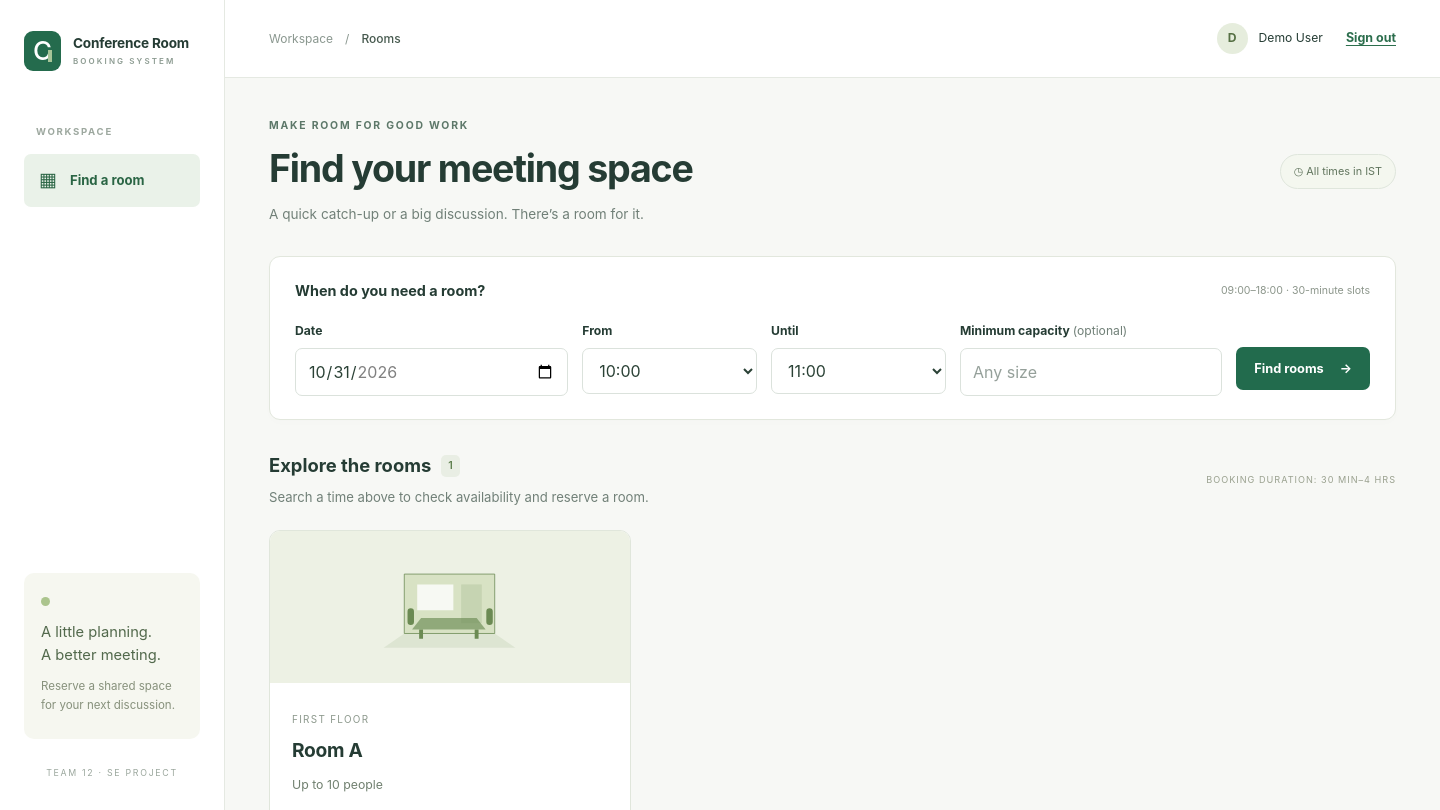
TC01 / TC02 room listing and search › searches with optional capacity and shows a useful empty result
Expected: the heading "Room A" is shown, [292,738,362,762]
In the number field labelled "Minimum capacity (optional)": [1091, 372] box [960,348,1222,396], type "12"
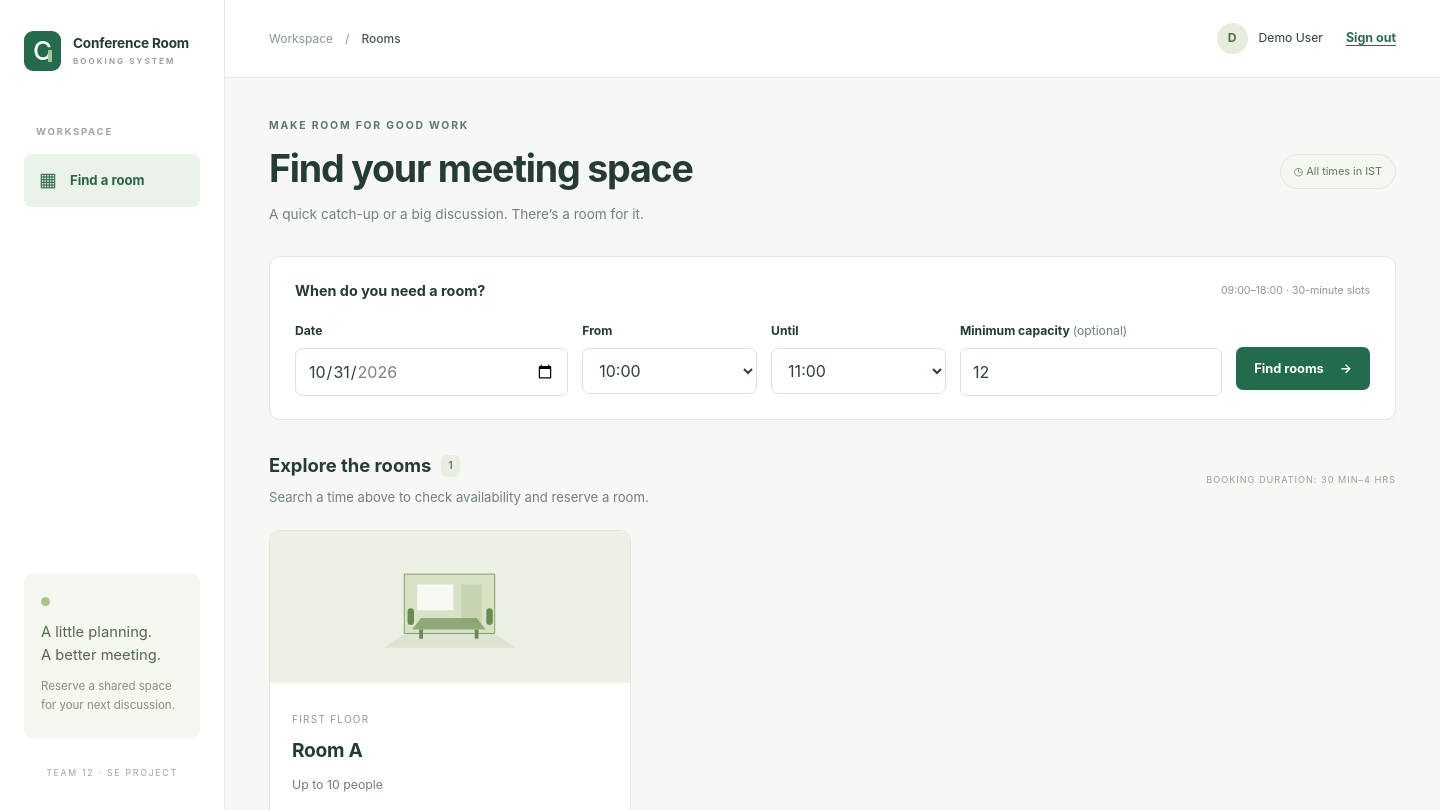
Click the button "Find rooms →": [1303, 368] box [1236,347,1370,390]
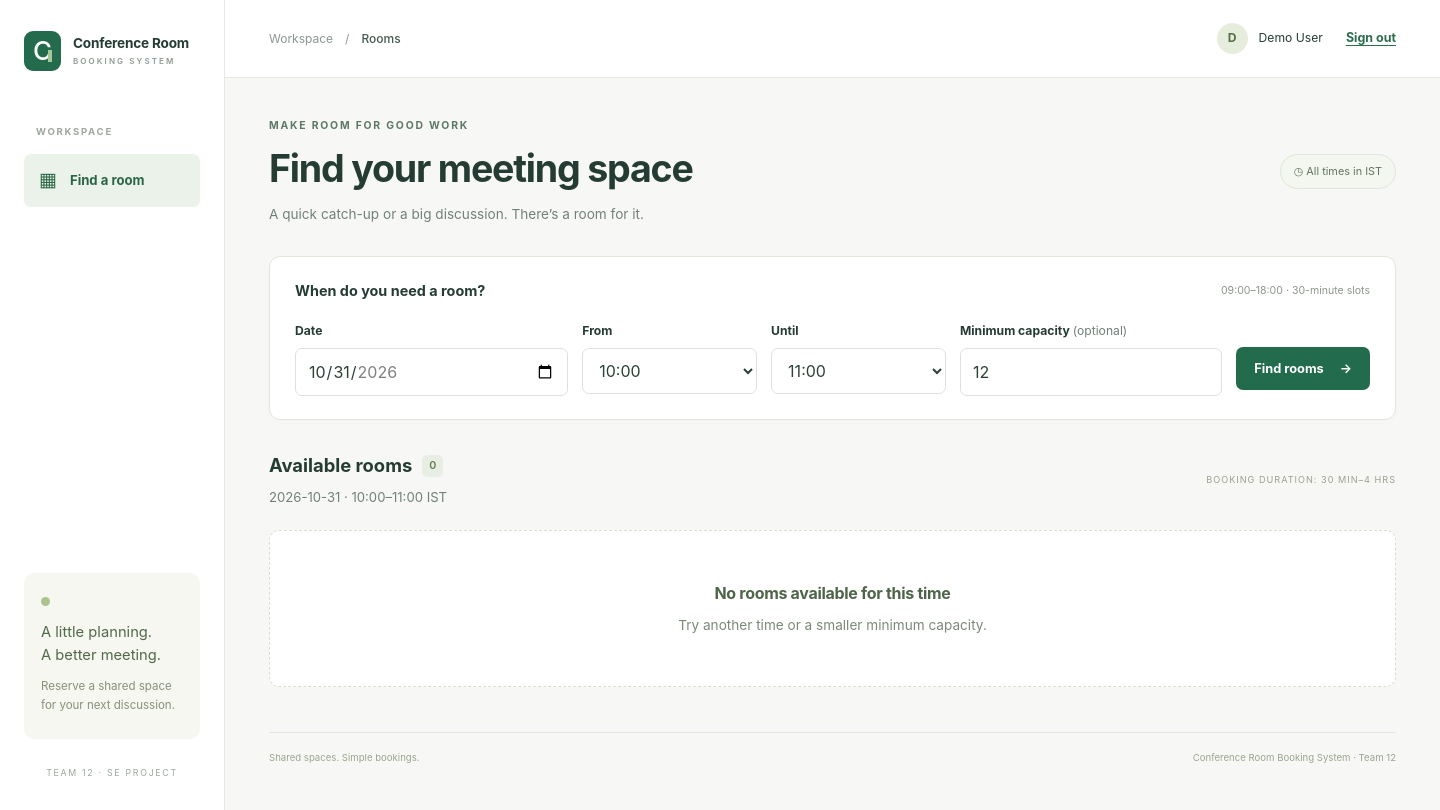
Now the heading "No rooms available for this time" is shown, box [714,583,951,603]
